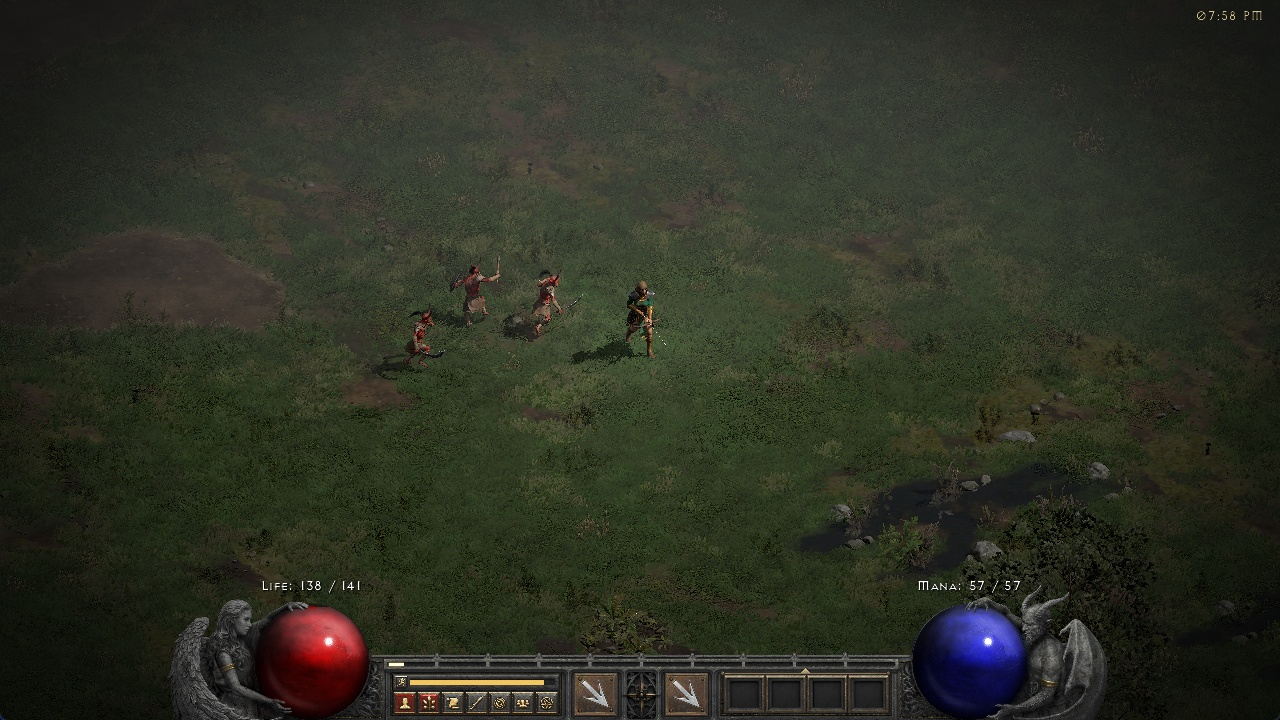fallen: (527, 267, 583, 344), (446, 255, 505, 326), (405, 306, 445, 372)
